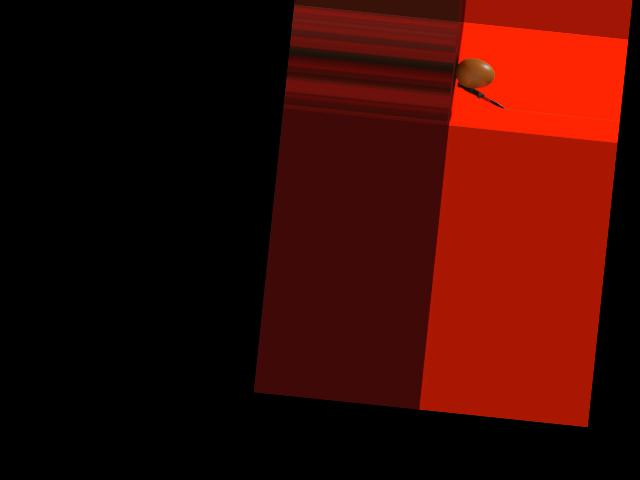egg: (454, 57, 495, 90)
